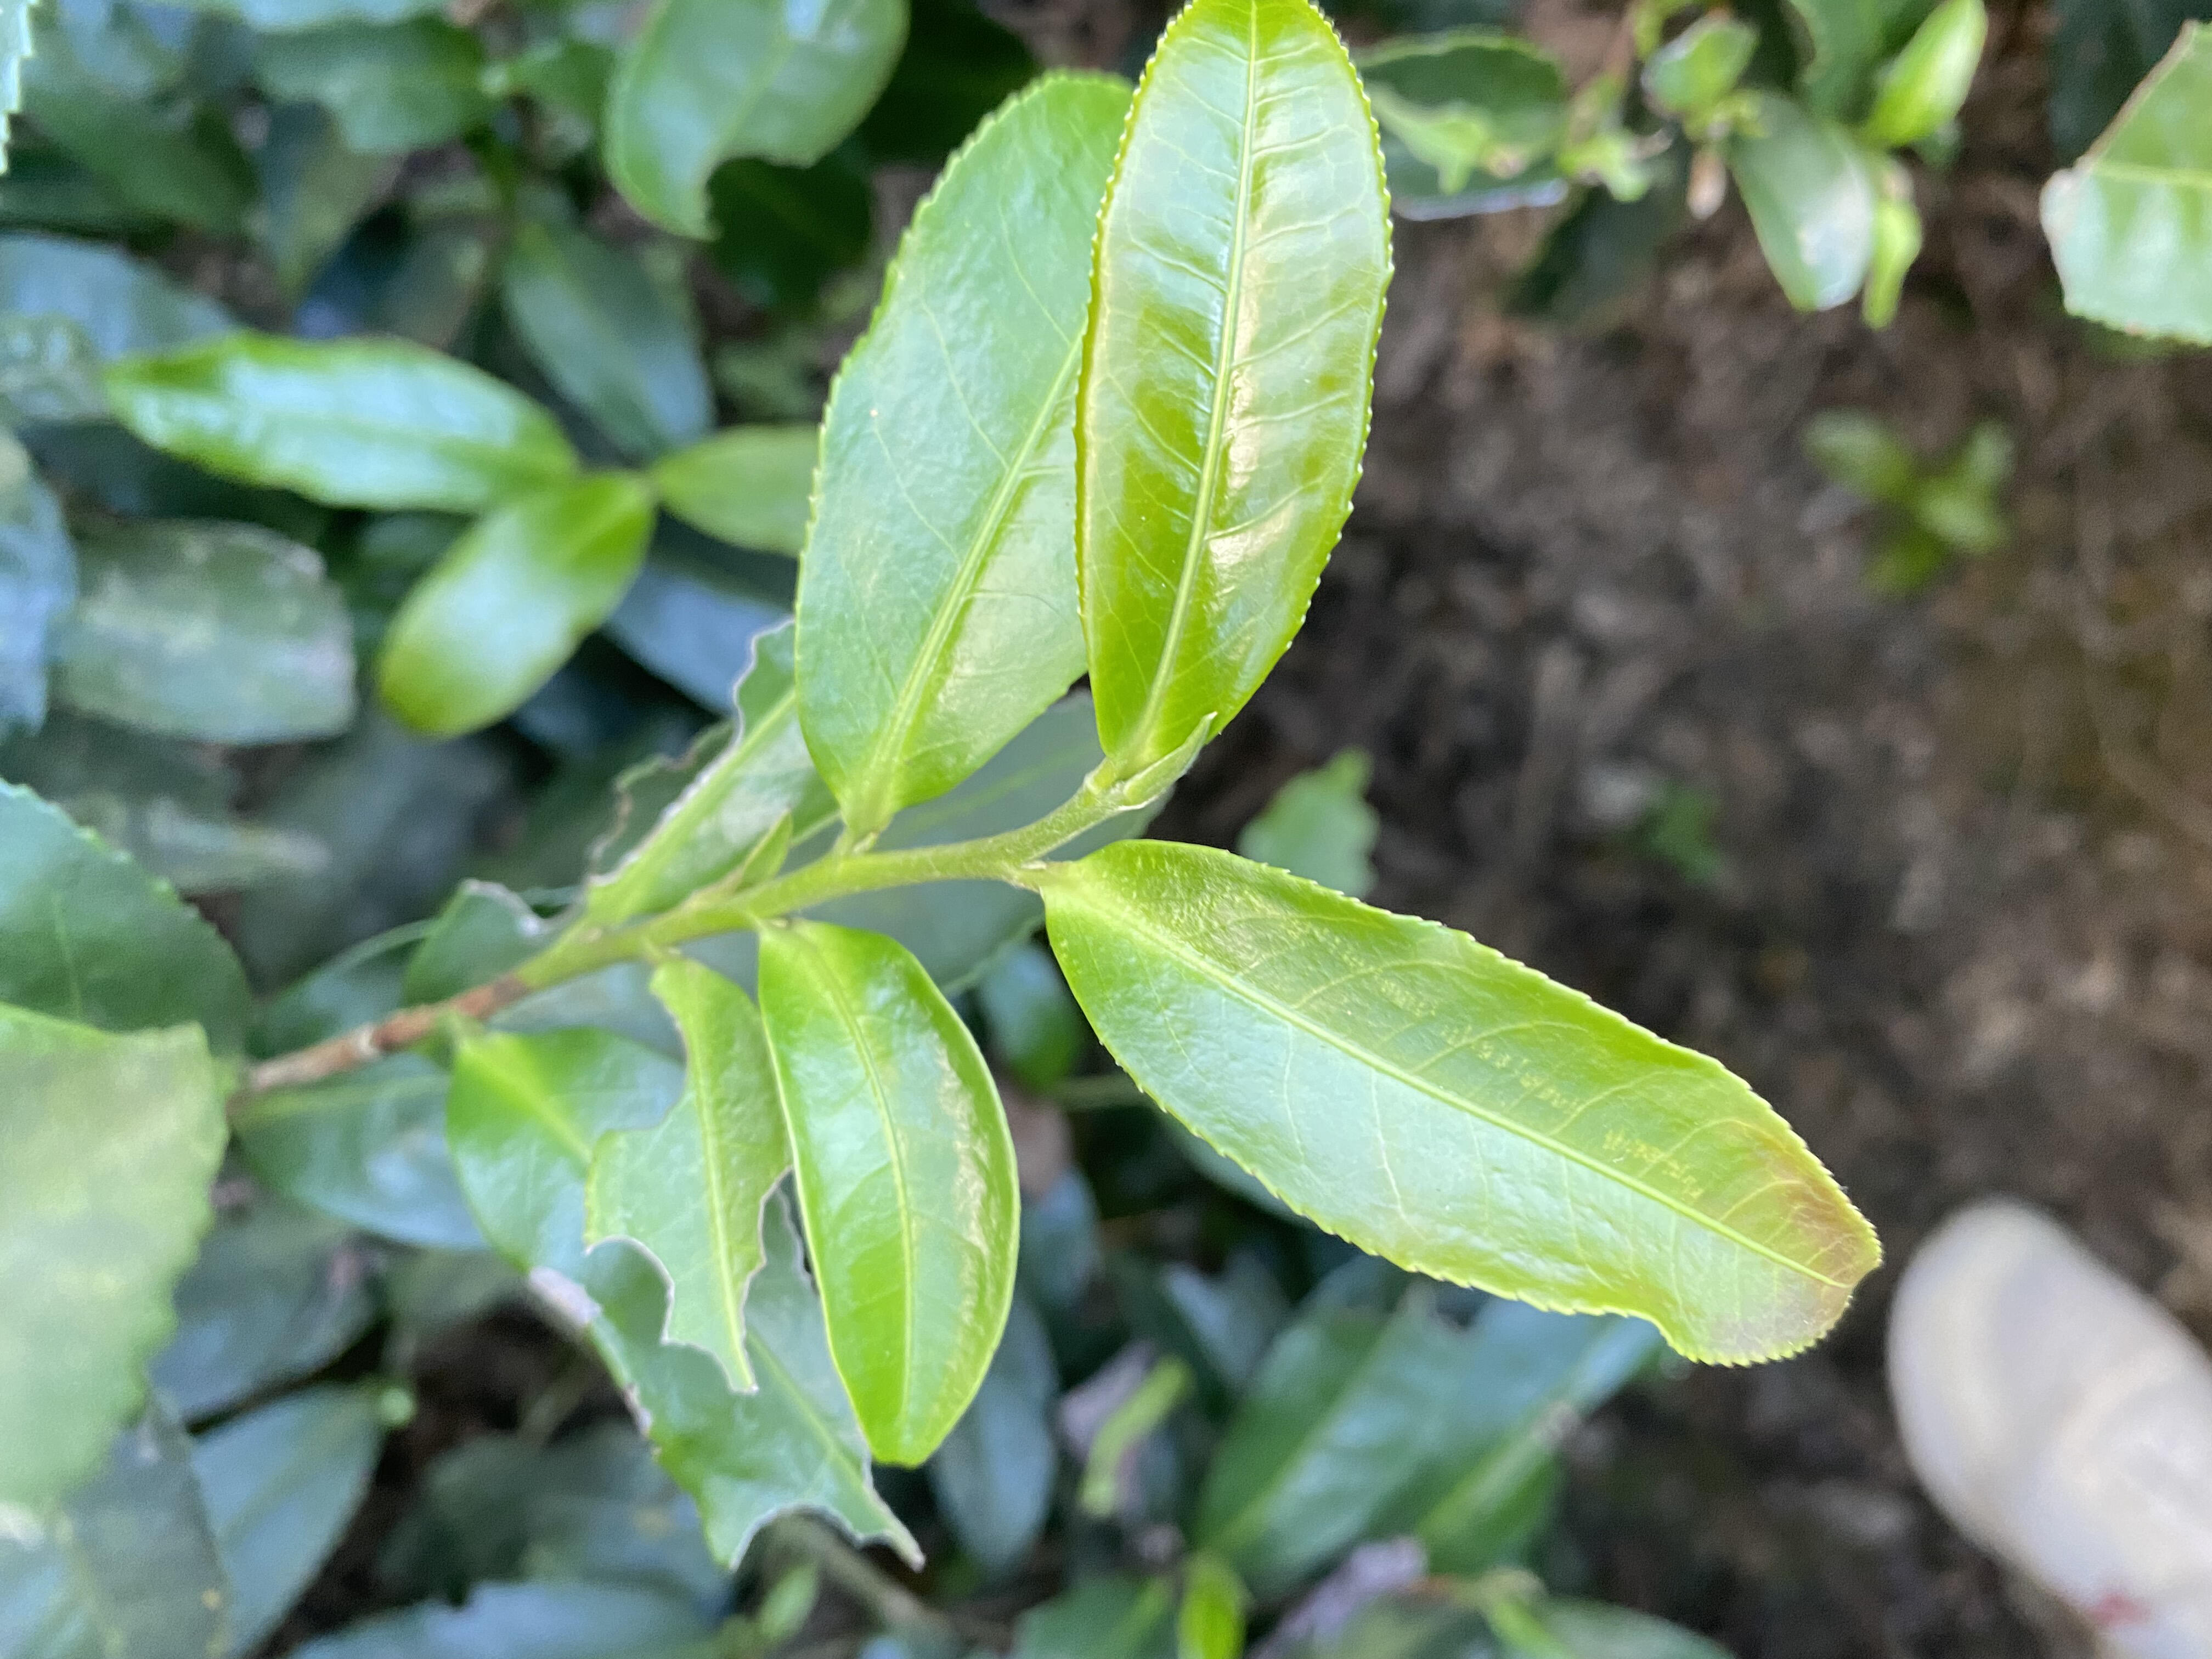chihuo_high: (580, 958, 794, 1399)
healthy: (1042, 840, 1886, 1373), (794, 68, 1137, 824), (1069, 2, 1400, 775), (758, 917, 1021, 1476)
